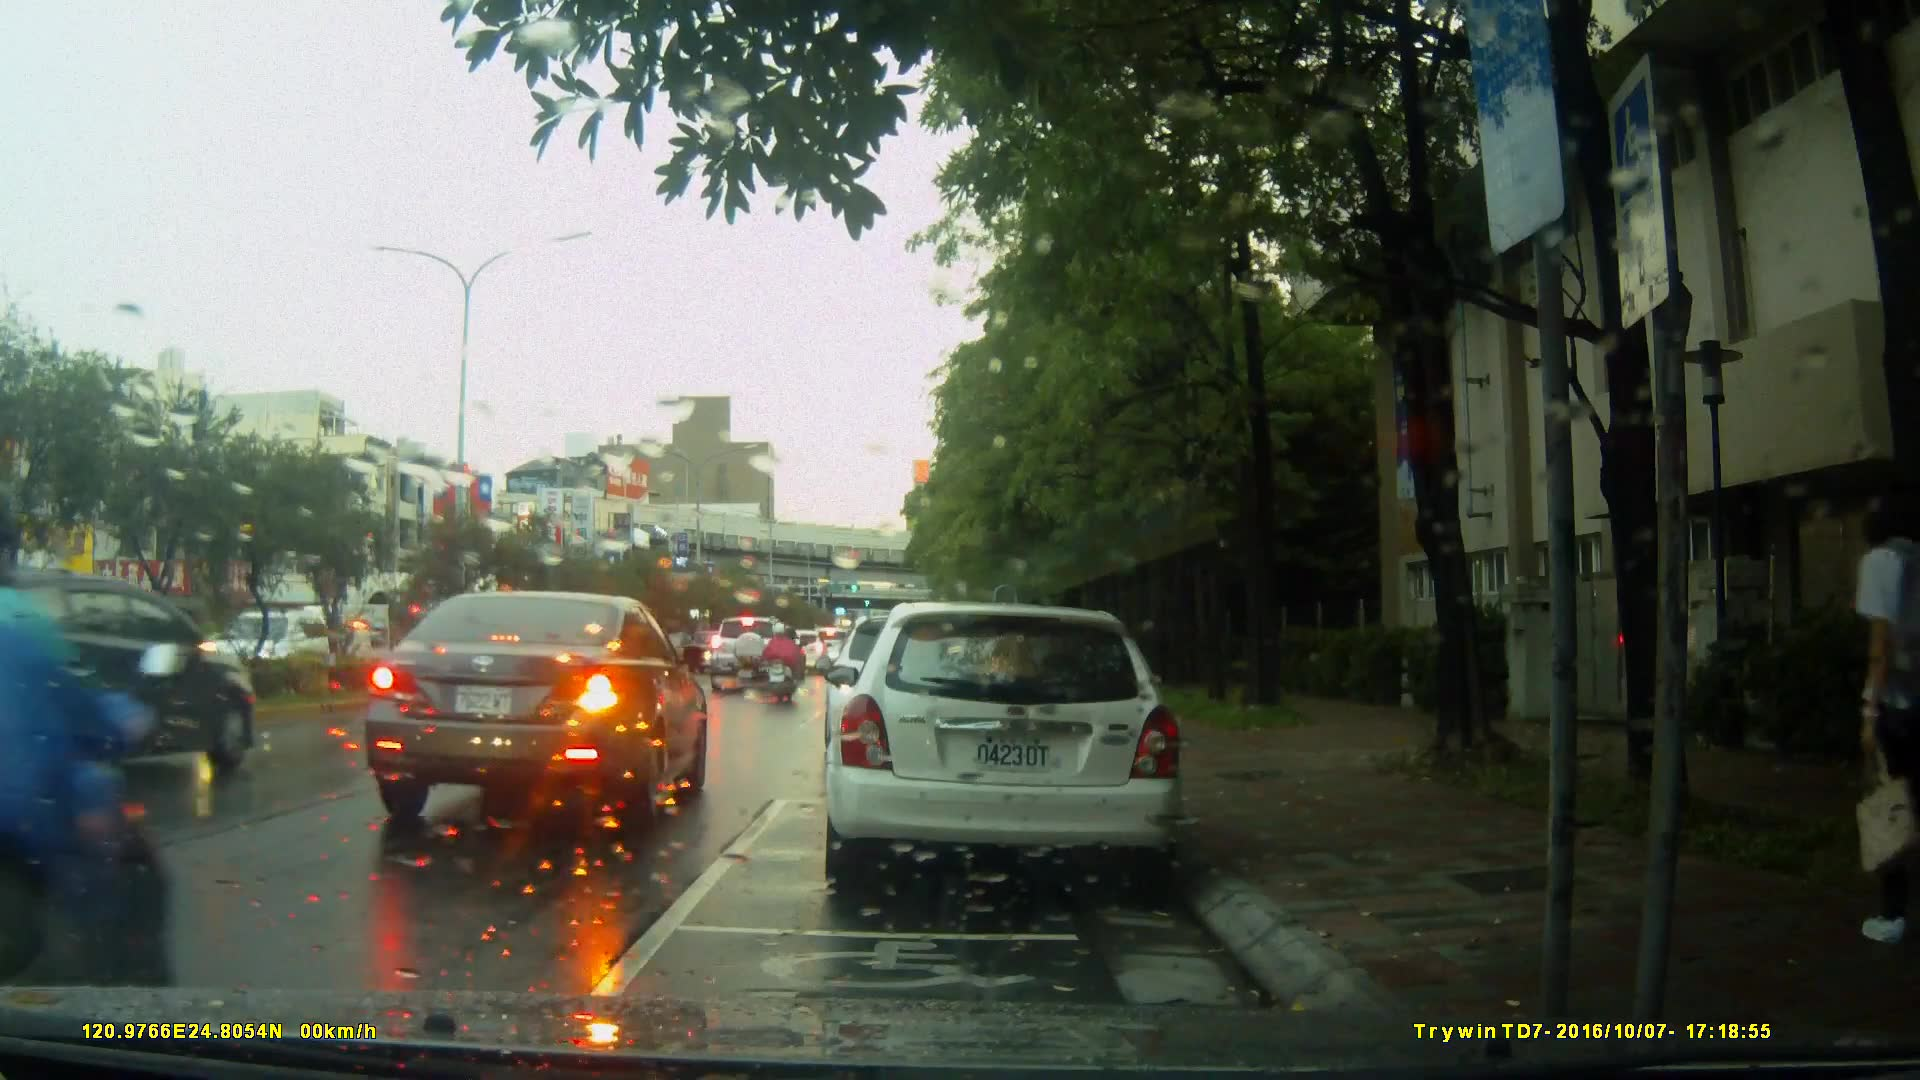pedestrian: (1821, 495, 1920, 948)
rider: (1, 462, 195, 1058), (761, 621, 802, 712)
vehicle: (820, 602, 1188, 898), (360, 589, 713, 835), (1, 570, 265, 790), (710, 616, 800, 694)
